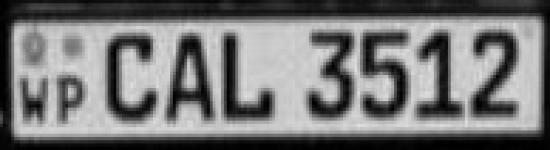1: (415, 28, 467, 125)
2: (470, 28, 525, 125)
3: (302, 26, 359, 125)
5: (358, 26, 414, 124)
A: (221, 29, 286, 129), (162, 32, 221, 128)
C: (100, 30, 162, 127)
P: (53, 69, 89, 129)
W: (15, 73, 52, 130)
